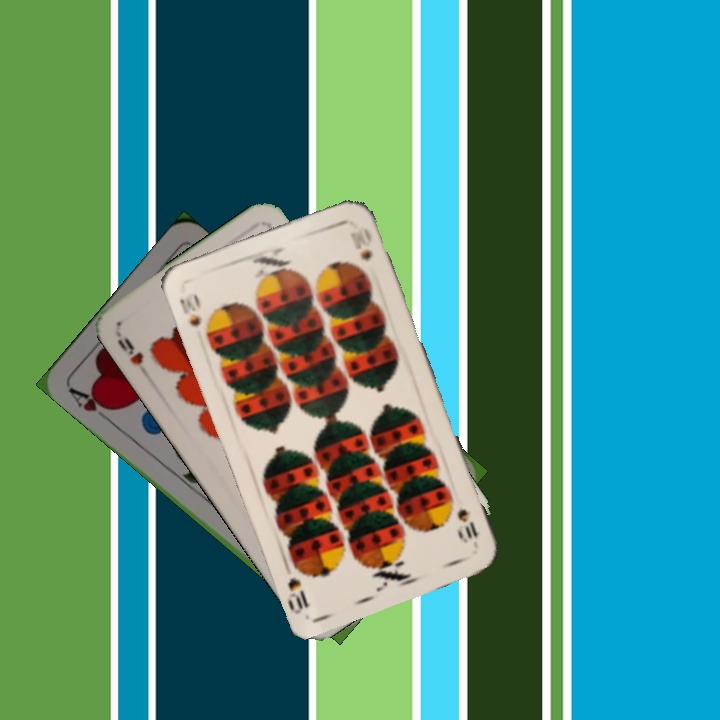H9: (112, 327, 146, 368)
HA: (64, 383, 117, 426)
S10: (447, 494, 481, 544), (175, 290, 204, 329)
